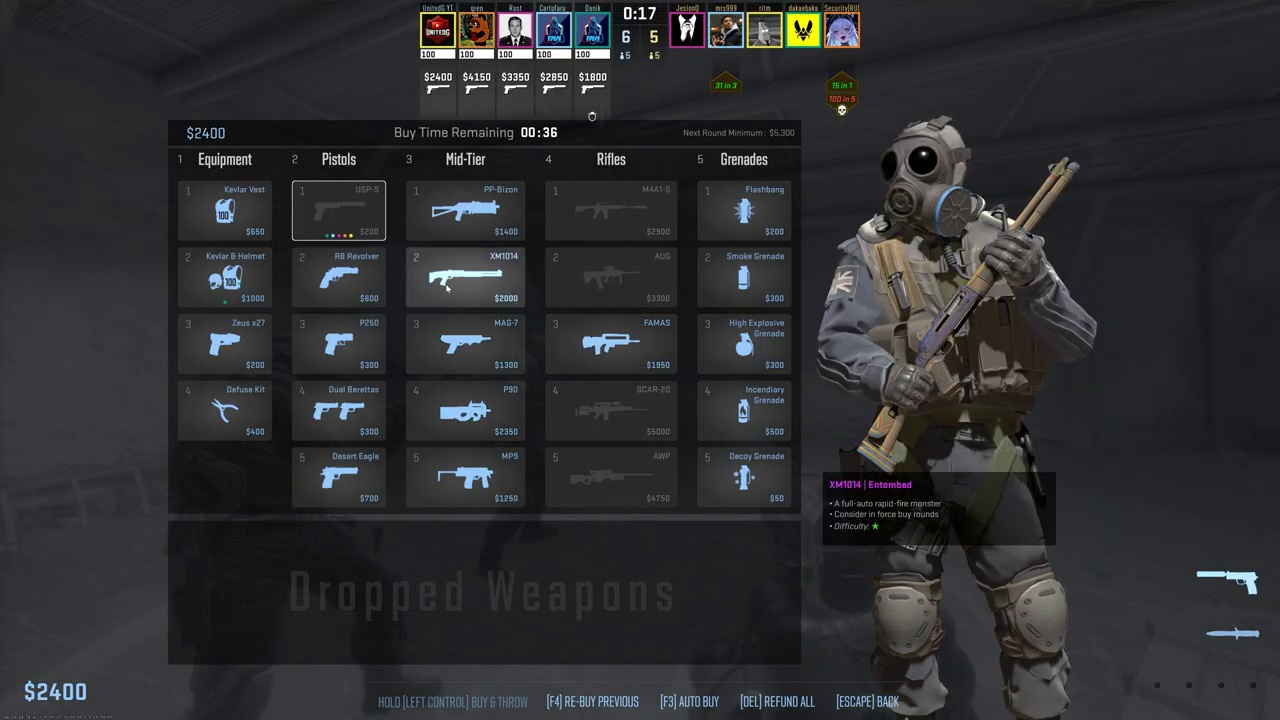CT: (849, 125, 1075, 710)
